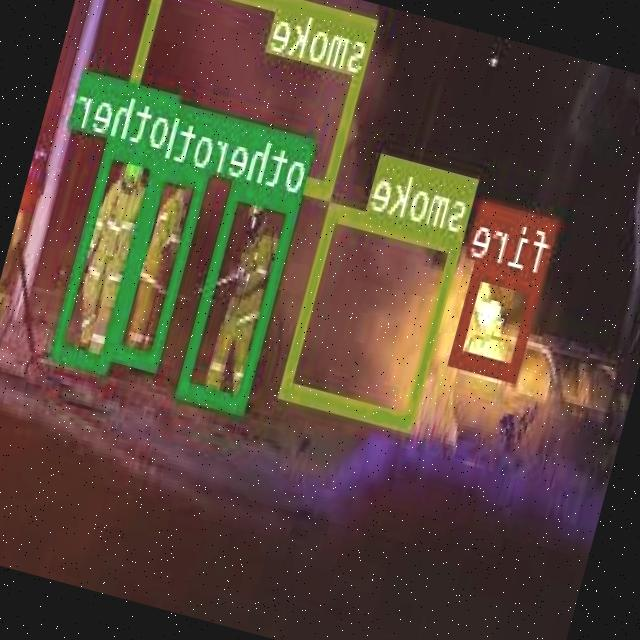fire: (451, 258, 546, 379)
smoke: (115, 0, 380, 197), (281, 200, 465, 428)
